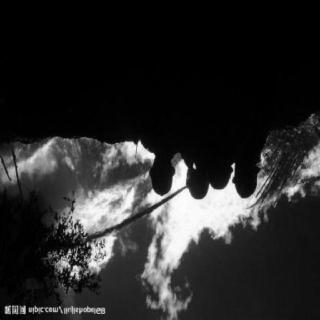Fire: (0, 122, 320, 316)
